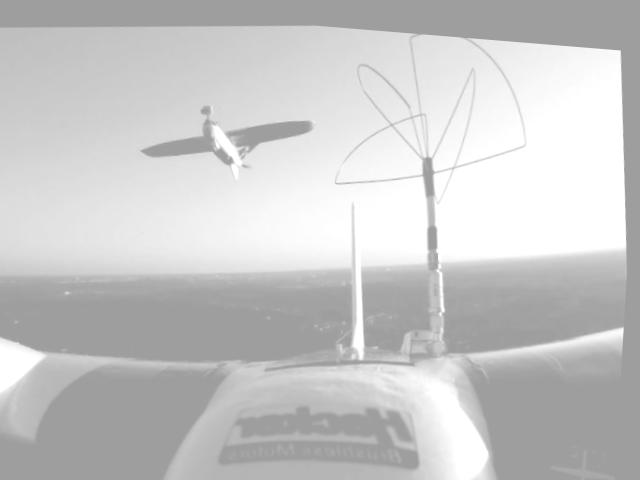hedef: (143, 74, 332, 204)
